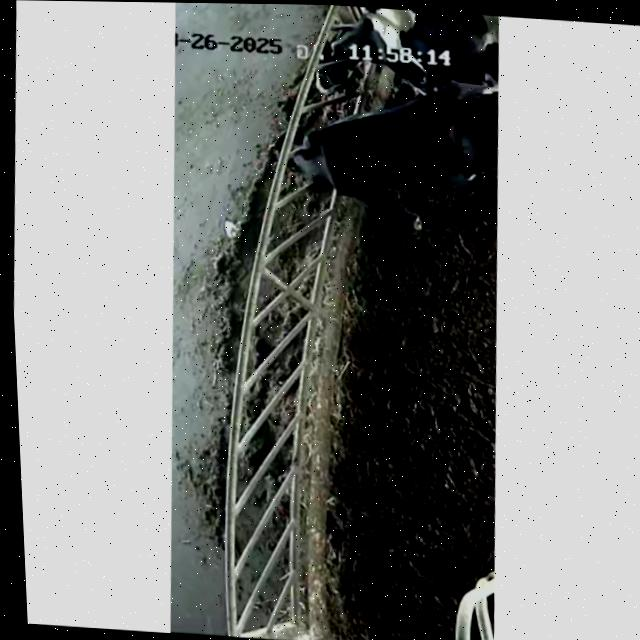eat: (250, 105, 403, 216), (276, 4, 437, 101)
